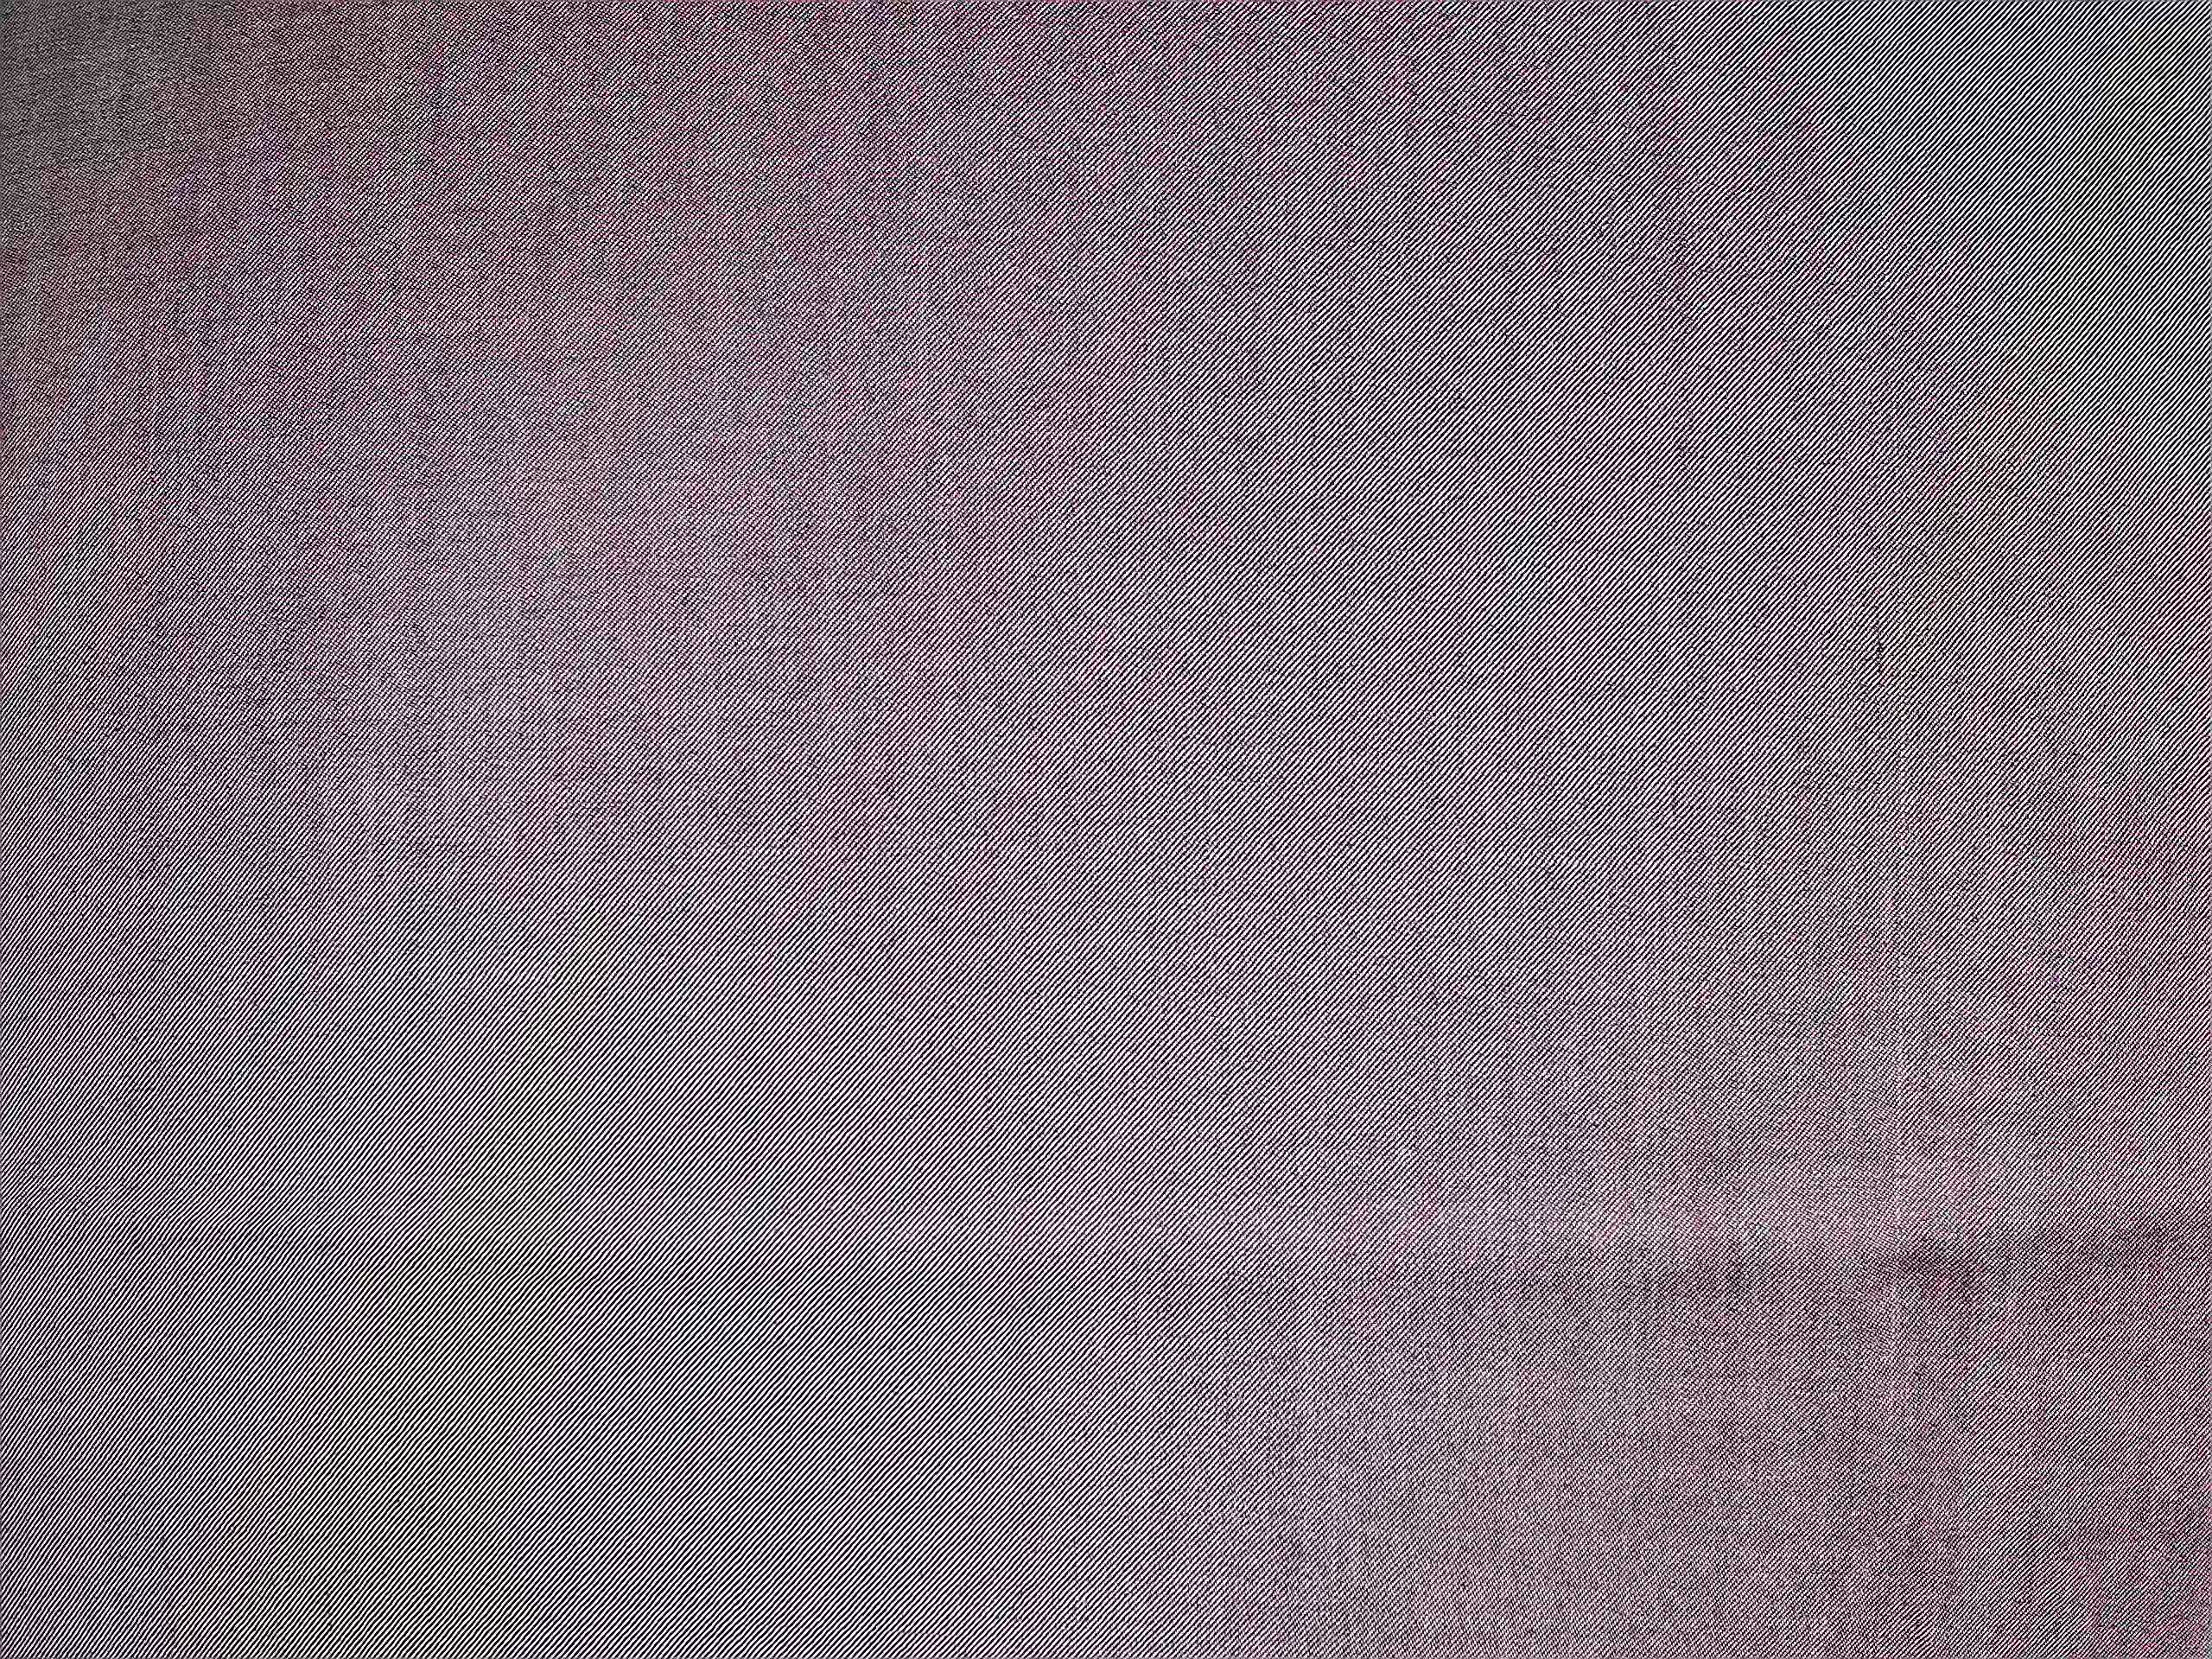hanging-warp: (1876, 843, 1907, 1647)
